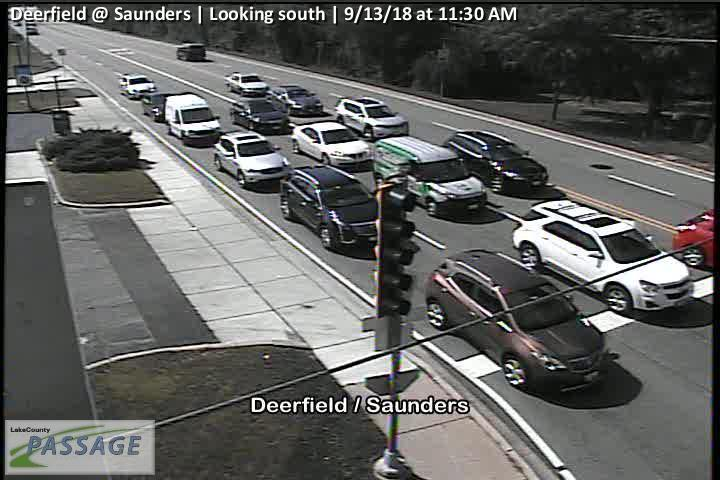SUV: (423, 247, 609, 398), (512, 197, 694, 315), (374, 135, 487, 217), (279, 164, 386, 250), (443, 129, 549, 192), (214, 130, 292, 187), (334, 96, 409, 143), (164, 93, 220, 148)
Sedan: (291, 120, 373, 172), (230, 98, 291, 133), (272, 83, 324, 117), (224, 71, 272, 98), (140, 91, 175, 124), (118, 73, 156, 100)
Truck: (177, 43, 205, 61)
